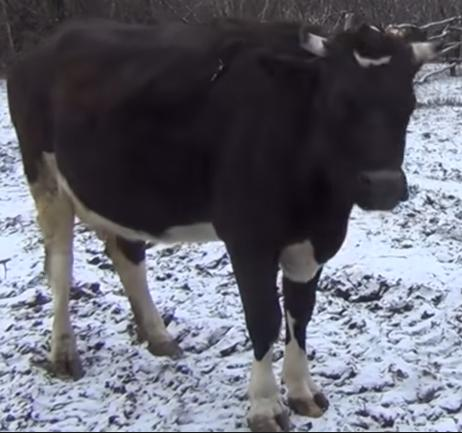cow: (6, 19, 447, 433)
